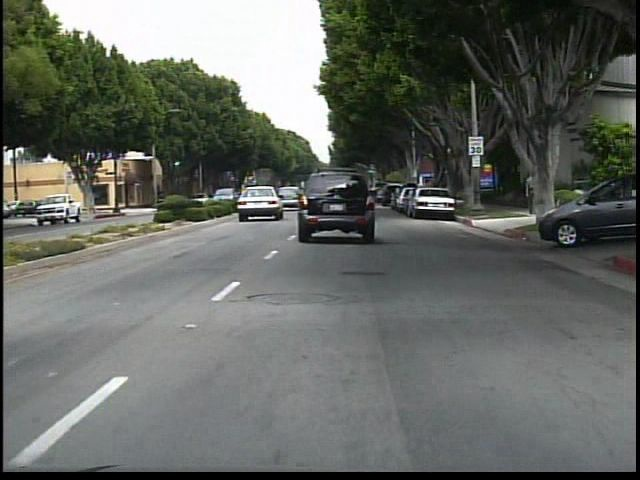person: (518, 171, 541, 219)
